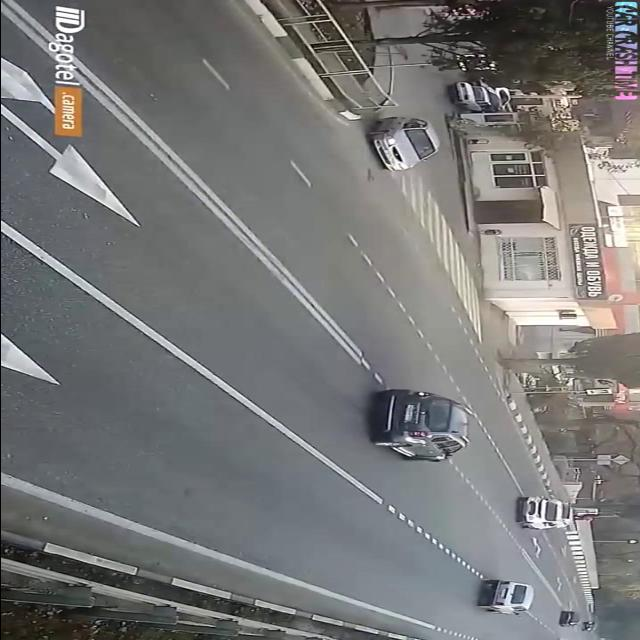non_accident: (507, 490, 581, 534)
